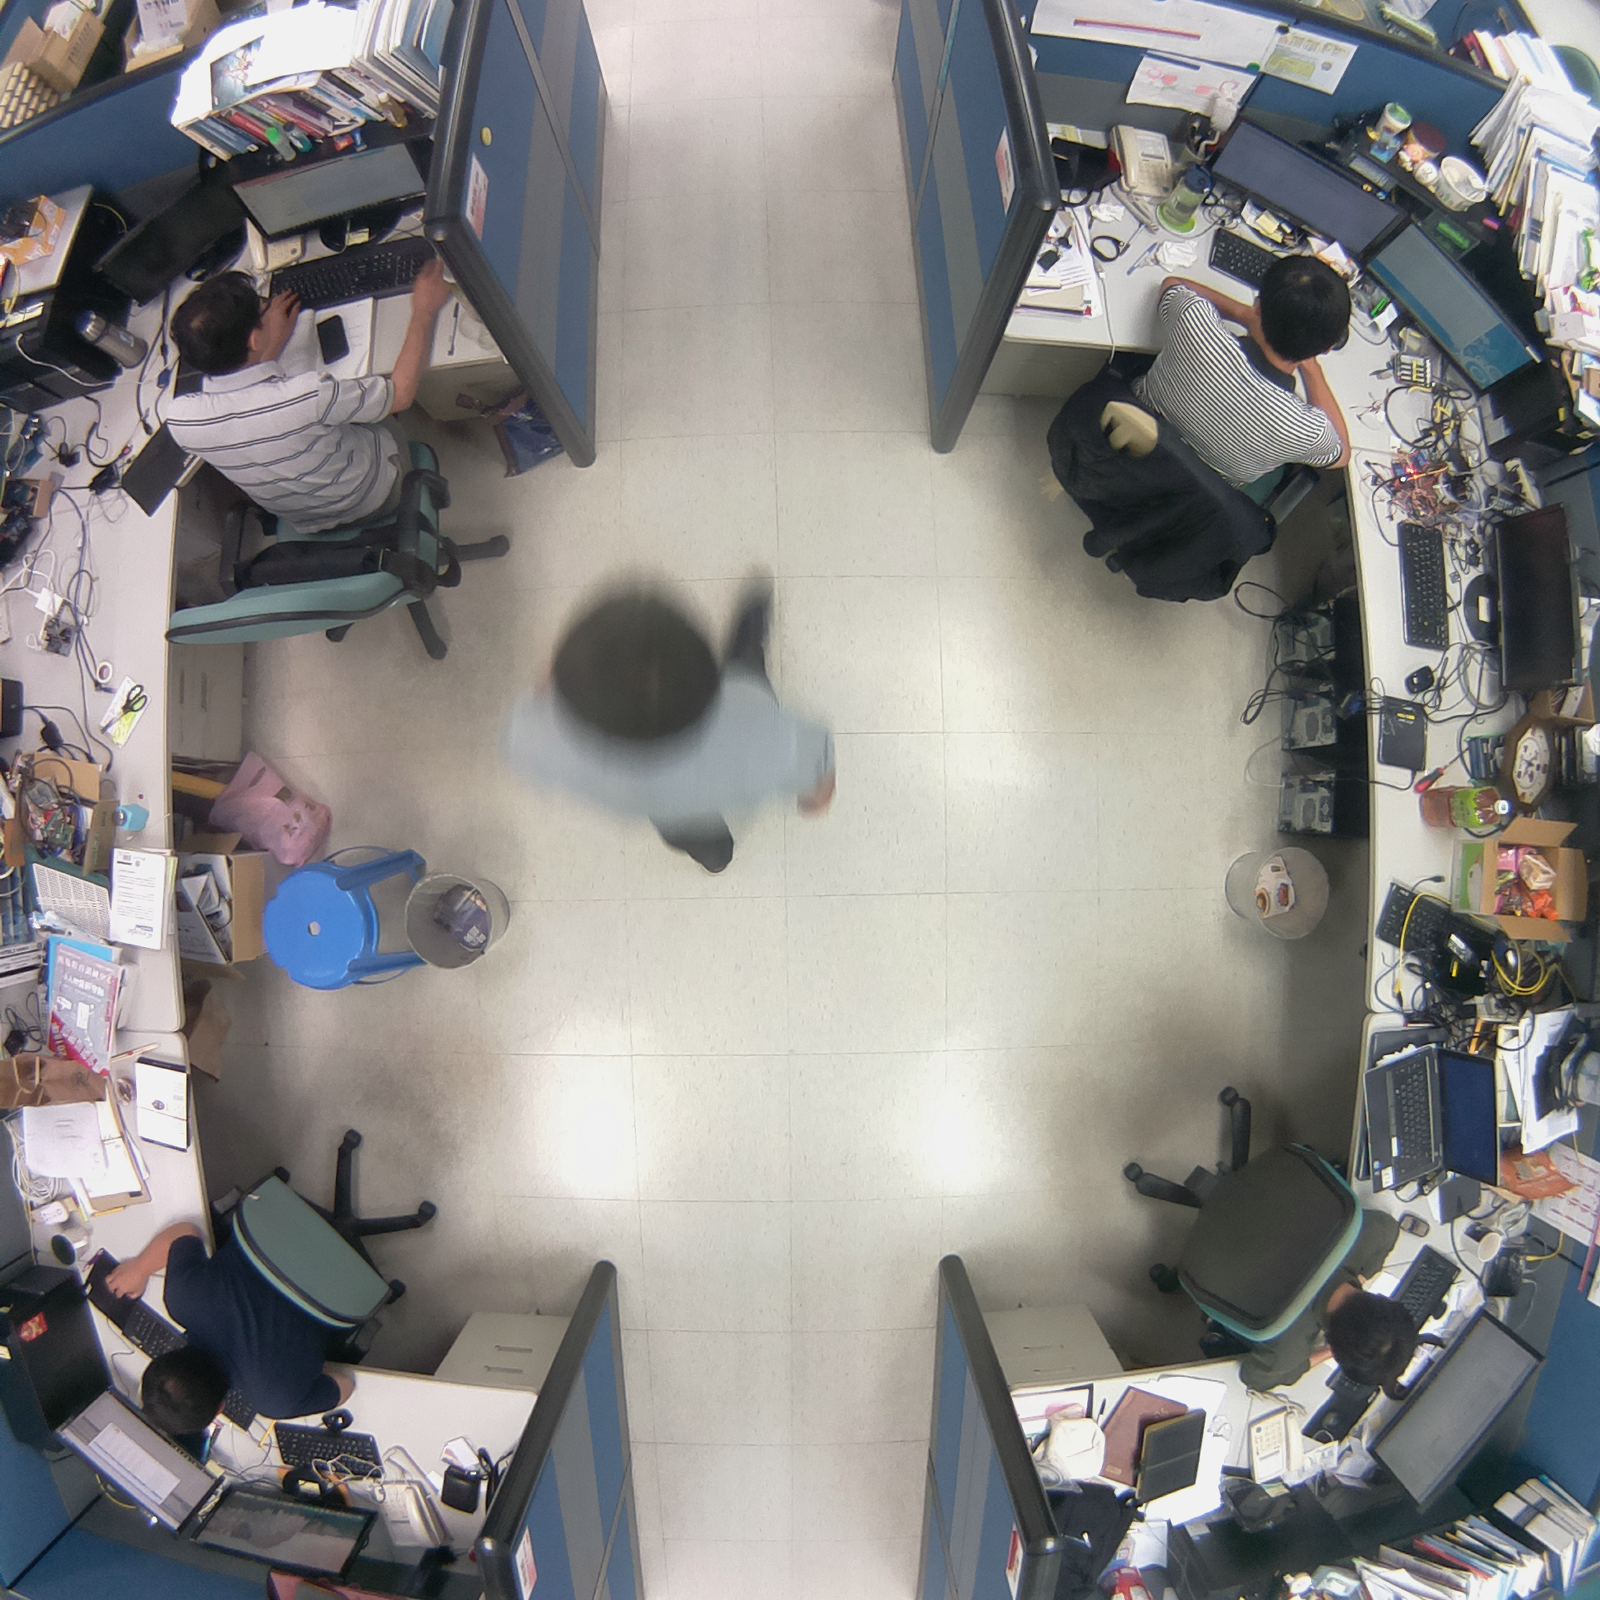head: (538, 570, 727, 759), (1242, 251, 1357, 363), (163, 265, 276, 376), (1319, 1289, 1425, 1395), (134, 1344, 229, 1444)
sitting: (127, 246, 527, 678), (1035, 235, 1370, 627), (95, 1111, 447, 1460), (1101, 1075, 1436, 1418)
walking: (490, 558, 845, 880)
